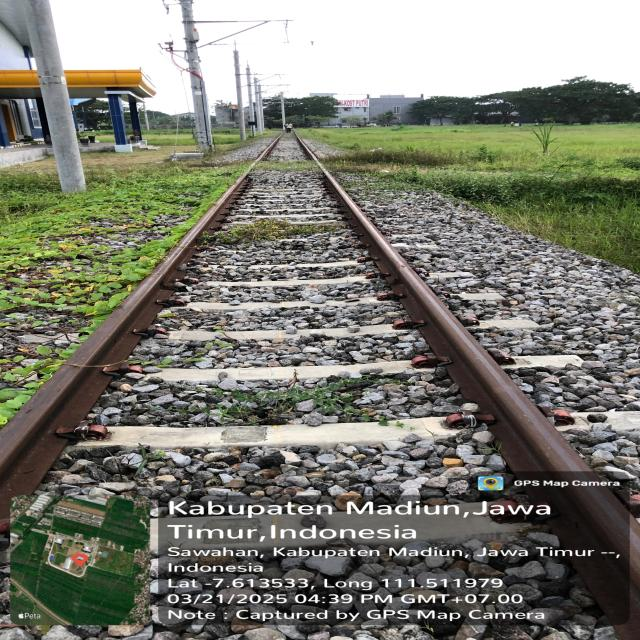rail-detection: (325, 171, 640, 640), (0, 175, 246, 517), (433, 307, 443, 318)
